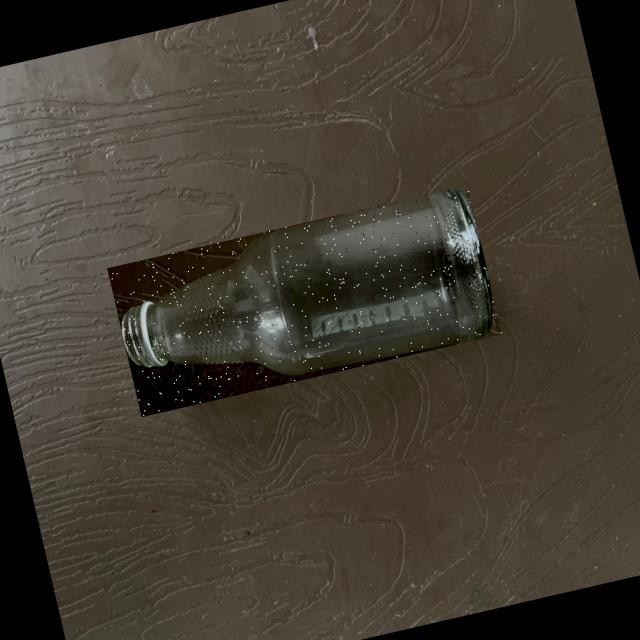Glass_Bottle: (122, 189, 492, 373)
